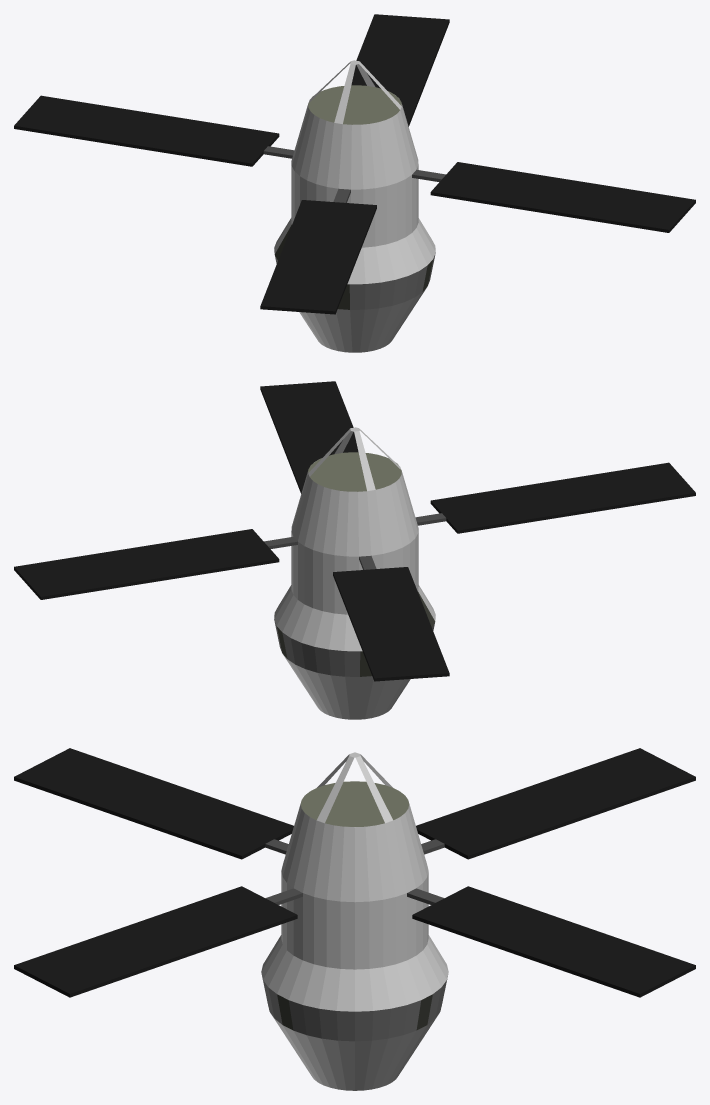
The model's file is BoundaryBreaker.obj.
The picture shows the model from 3 angles, top to bottom: view 1: azimuth 30°, elevation 25°; view 2: azimuth 150°, elevation 25°; view 3: azimuth 270°, elevation 25°; orthographic projection. The views are drawn at different scales.
Visible parts, largest first — view 1: 円柱; view 2: 円柱; view 3: 円柱.
Boxes of the visible parts, bbox=[...] form: 円柱: bbox=[14, 14, 695, 352]; 円柱: bbox=[14, 381, 695, 719]; 円柱: bbox=[14, 748, 695, 1090].
Size of the model in its own units: 7.9 by 4.75 by 9.25.
1 material, 1 textured.
